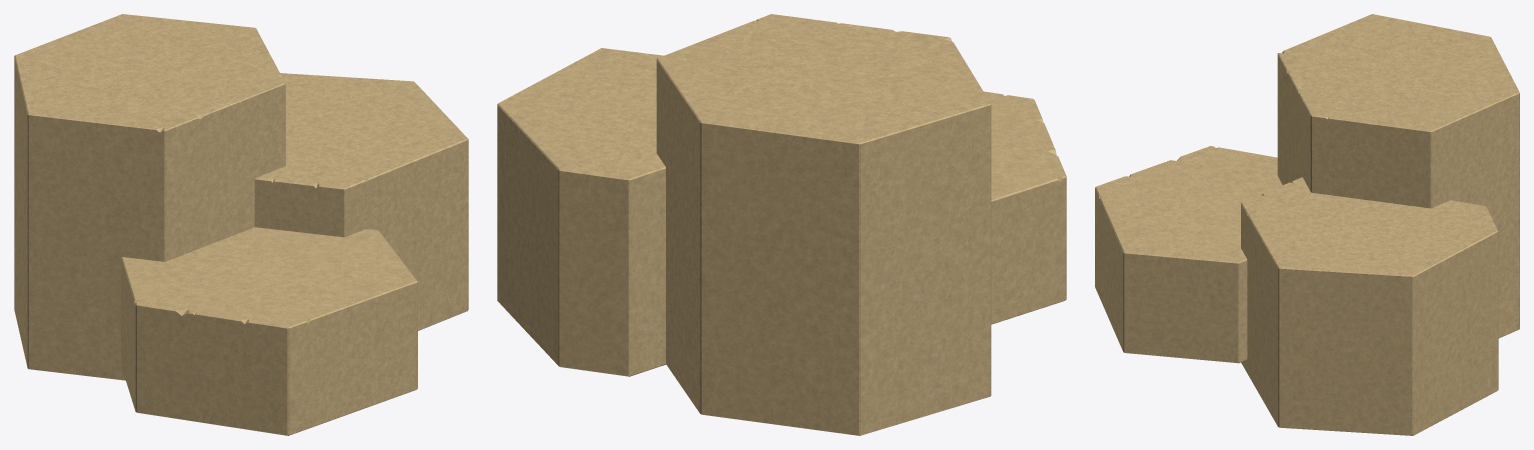
Rendered from OrirockConcentration_Embedded.fbx.
The picture shows the model from 3 angles, left to right: view 1: azimuth 30°, elevation 25°; view 2: azimuth 150°, elevation 25°; view 3: azimuth 270°, elevation 25°; orthographic projection. The views are drawn at different scales.
Visible parts, largest first — view 1: 提纯源岩_左后_宽顶短壁, 提纯源岩_前方_宽扁断块, 提纯源岩_右后_斜切与下阶; view 2: 提纯源岩_左后_宽顶短壁, 提纯源岩_右后_斜切与下阶, 提纯源岩_前方_宽扁断块; view 3: 提纯源岩_右后_斜切与下阶, 提纯源岩_左后_宽顶短壁, 提纯源岩_前方_宽扁断块.
Part boxes in pixels (x1,y1,x2,y2): 提纯源岩_左后_宽顶短壁: [14, 14, 285, 380]; 提纯源岩_前方_宽扁断块: [121, 227, 417, 435]; 提纯源岩_右后_斜切与下阶: [254, 73, 468, 330]; 提纯源岩_左后_宽顶短壁: [656, 14, 991, 435]; 提纯源岩_右后_斜切与下阶: [497, 48, 665, 376]; 提纯源岩_前方_宽扁断块: [983, 91, 1066, 324]; 提纯源岩_右后_斜切与下阶: [1241, 177, 1498, 435]; 提纯源岩_左后_宽顶短壁: [1277, 14, 1519, 338]; 提纯源岩_前方_宽扁断块: [1095, 146, 1282, 363].
Size of the model in its own units: 163 by 97.18 by 158.
